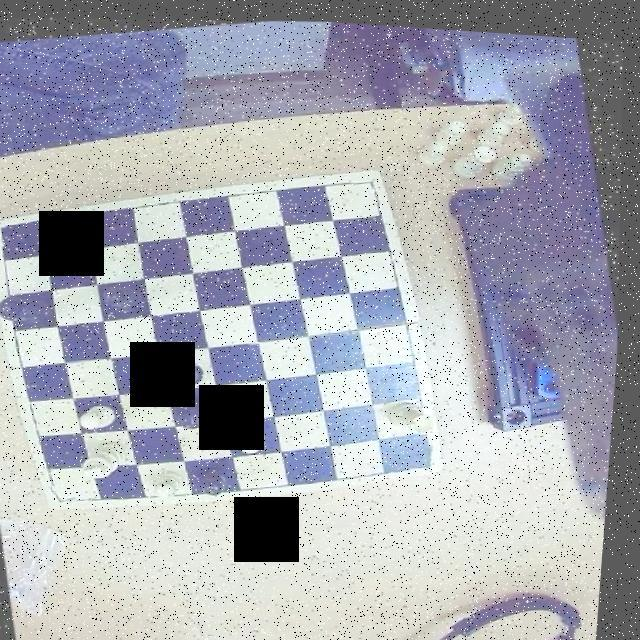chess-table-corners: (412, 433, 450, 471), (351, 165, 389, 202), (50, 479, 86, 510), (0, 214, 28, 248)
